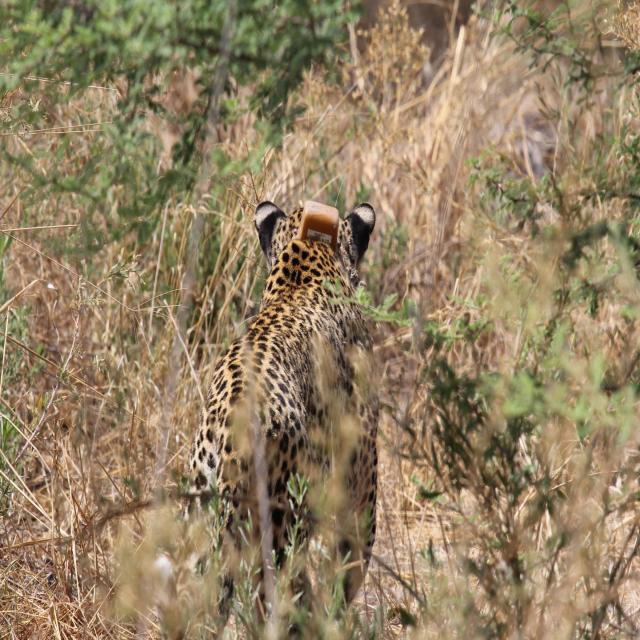Leopard: (168, 196, 408, 624)
